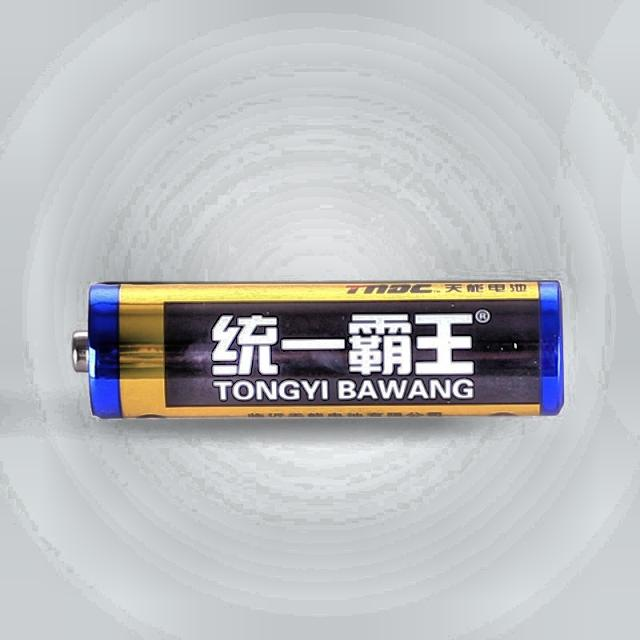Non-Valuable Waste - Batteries: (72, 281, 564, 418)
